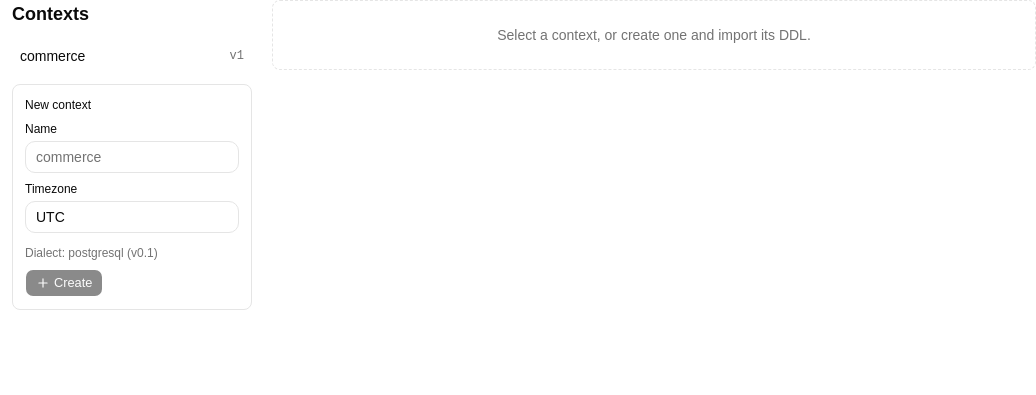
Test: Context creation locks inputs and preserves them on failure (success: false)
The width and height of the screenshot is (1036, 395).
Type "first" into the field labelled "Name" at [132, 157], box [25, 141, 239, 173]
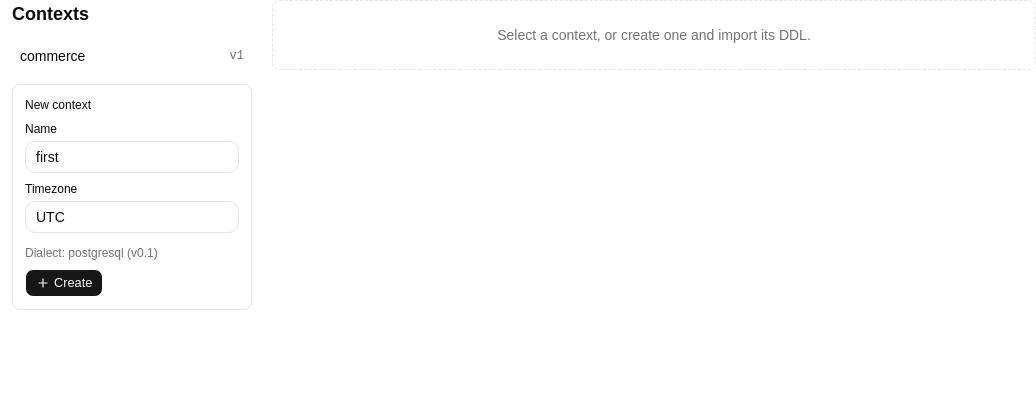
Click the button "Create" at [64, 283], box [25, 269, 103, 297]
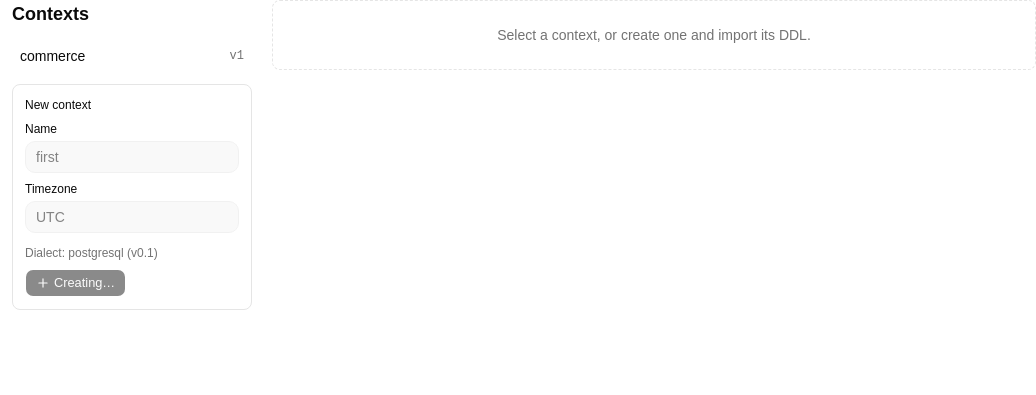
Type "second name typed during save" into the field labelled "Name" at [132, 157], box [25, 141, 239, 173]
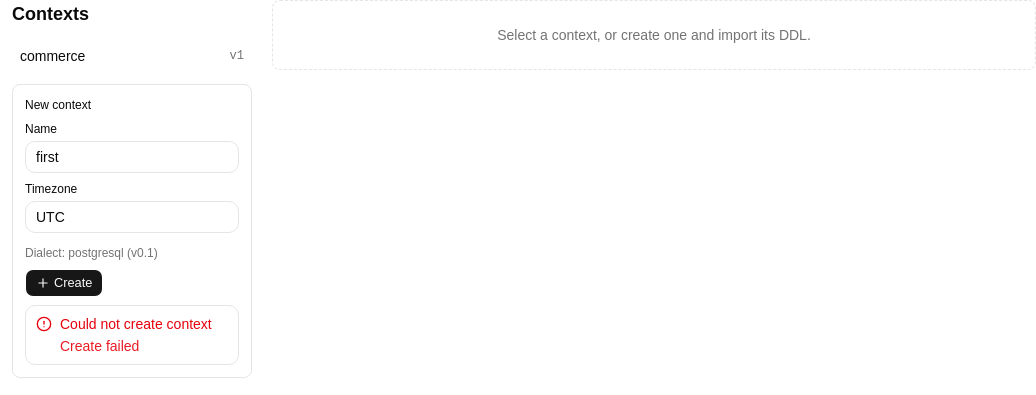
Expected: the field labelled "Timezone" holds "UTC", [25, 201, 239, 233]
Expected: the text "Create failed" is shown, [60, 338, 139, 354]
